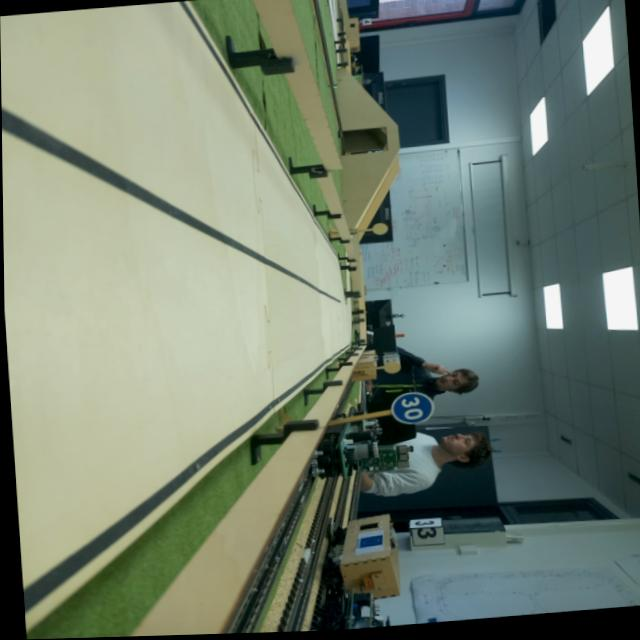panneau-limitation30: (387, 393, 436, 423)
